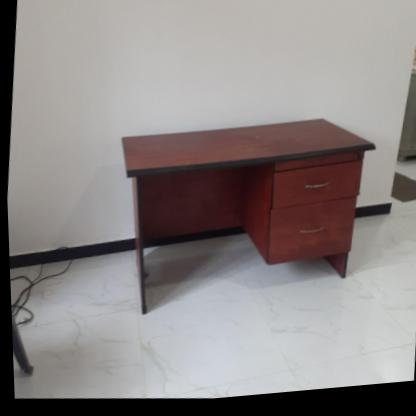Ceramic floor: (8, 207, 416, 402), (140, 237, 336, 315)
Table: (91, 93, 393, 349)
